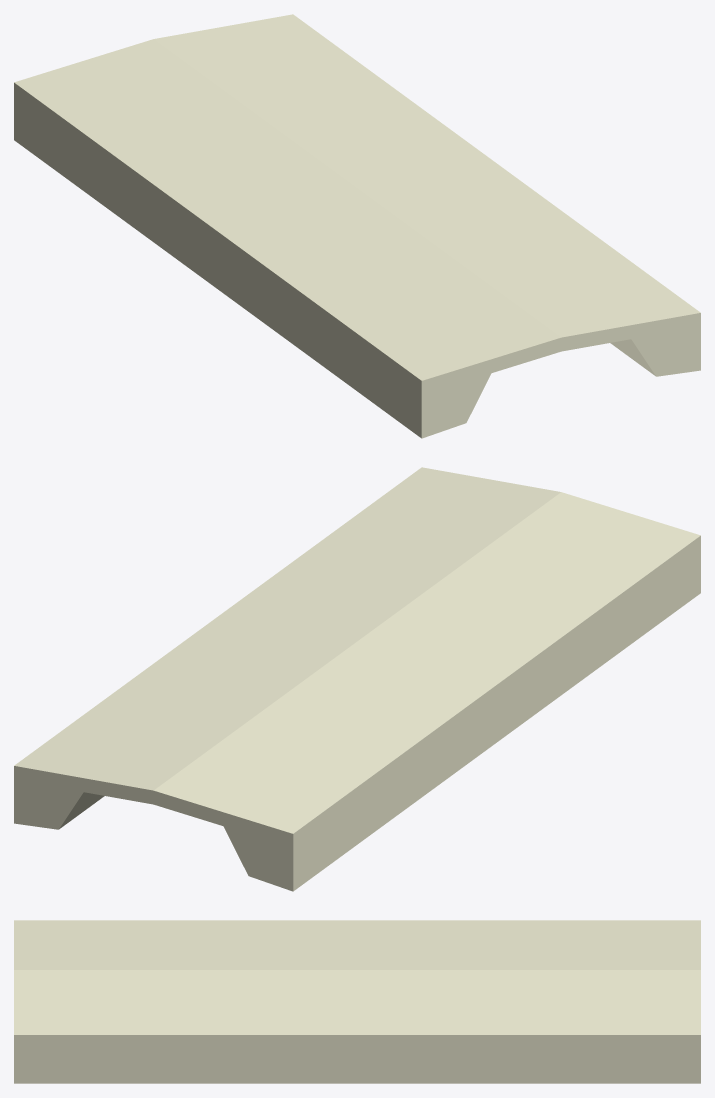
Rendered from subwayCeiling2.glb.
3 views of the same model, one above another, from view 1: azimuth 30°, elevation 25°; view 2: azimuth 150°, elevation 25°; view 3: azimuth 270°, elevation 25° (orthographic). The views are drawn at different scales.
Parts seen in each view (by area): view 1: Cube.001; view 2: Cube.001; view 3: Cube.001.
Part boxes in pixels (x1,y1,x2,y2): Cube.001: [14, 14, 700, 438]; Cube.001: [14, 467, 700, 891]; Cube.001: [14, 920, 700, 1083].
Size of the model in its own units: 9.61 by 2.21 by 24.32.
